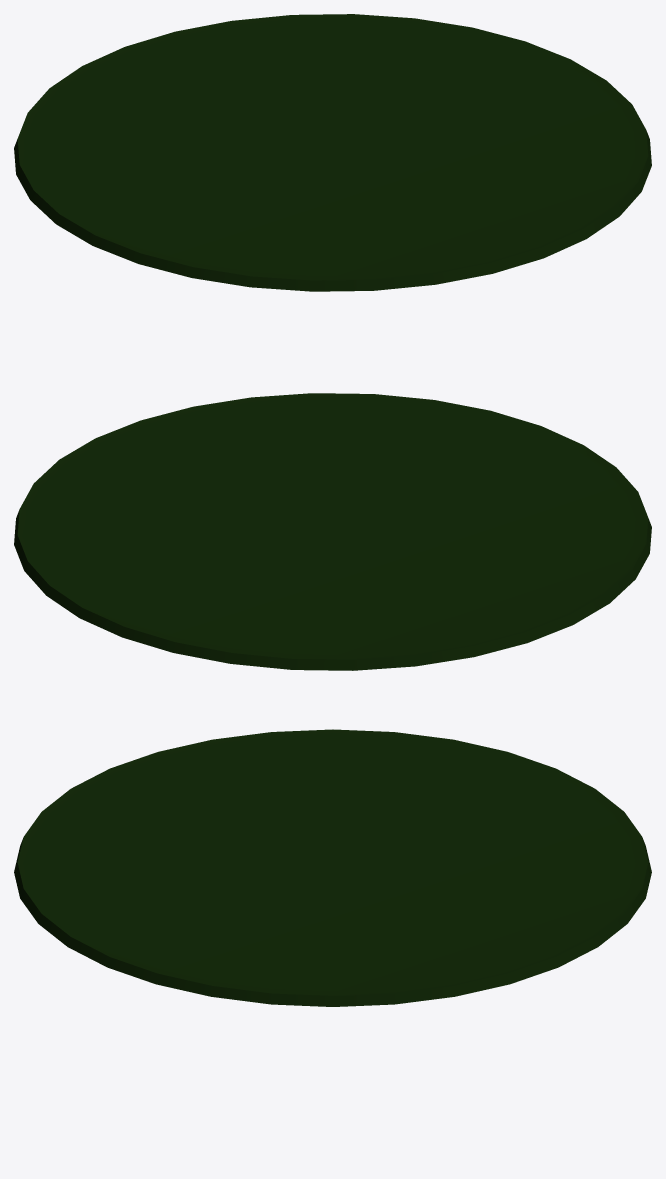
Rendered from Microwave_1_bodymesh_0_3.obj.
The picture shows the model from 3 angles, top to bottom: view 1: azimuth 30°, elevation 25°; view 2: azimuth 150°, elevation 25°; view 3: azimuth 270°, elevation 25°; orthographic projection.
Size of the model in its own units: 0.2256 by 0.0901 by 0.2256.
